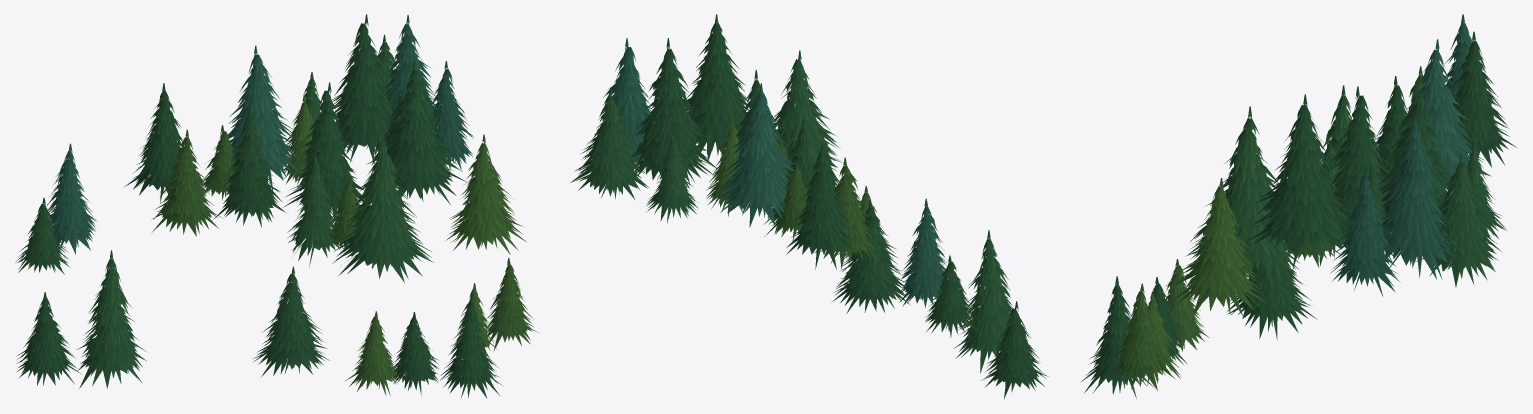
The model's file is pine_10.glb.
The picture shows the model from 3 angles, left to right: view 1: azimuth 30°, elevation 25°; view 2: azimuth 150°, elevation 25°; view 3: azimuth 270°, elevation 25°; orthographic projection. The views are drawn at different scales.
Parts seen in each view (by area): view 1: pine_10; view 2: pine_10; view 3: pine_10.
Boxes of the visible parts, box(x1,y1,x2,y2) form: pine_10: box(15, 14, 539, 398); pine_10: box(570, 14, 1048, 398); pine_10: box(1080, 14, 1516, 398).
Bounding box in the file's own units: 47.81 × 28.21 × 35.29.
Materials: 1 (1 with a texture image).
